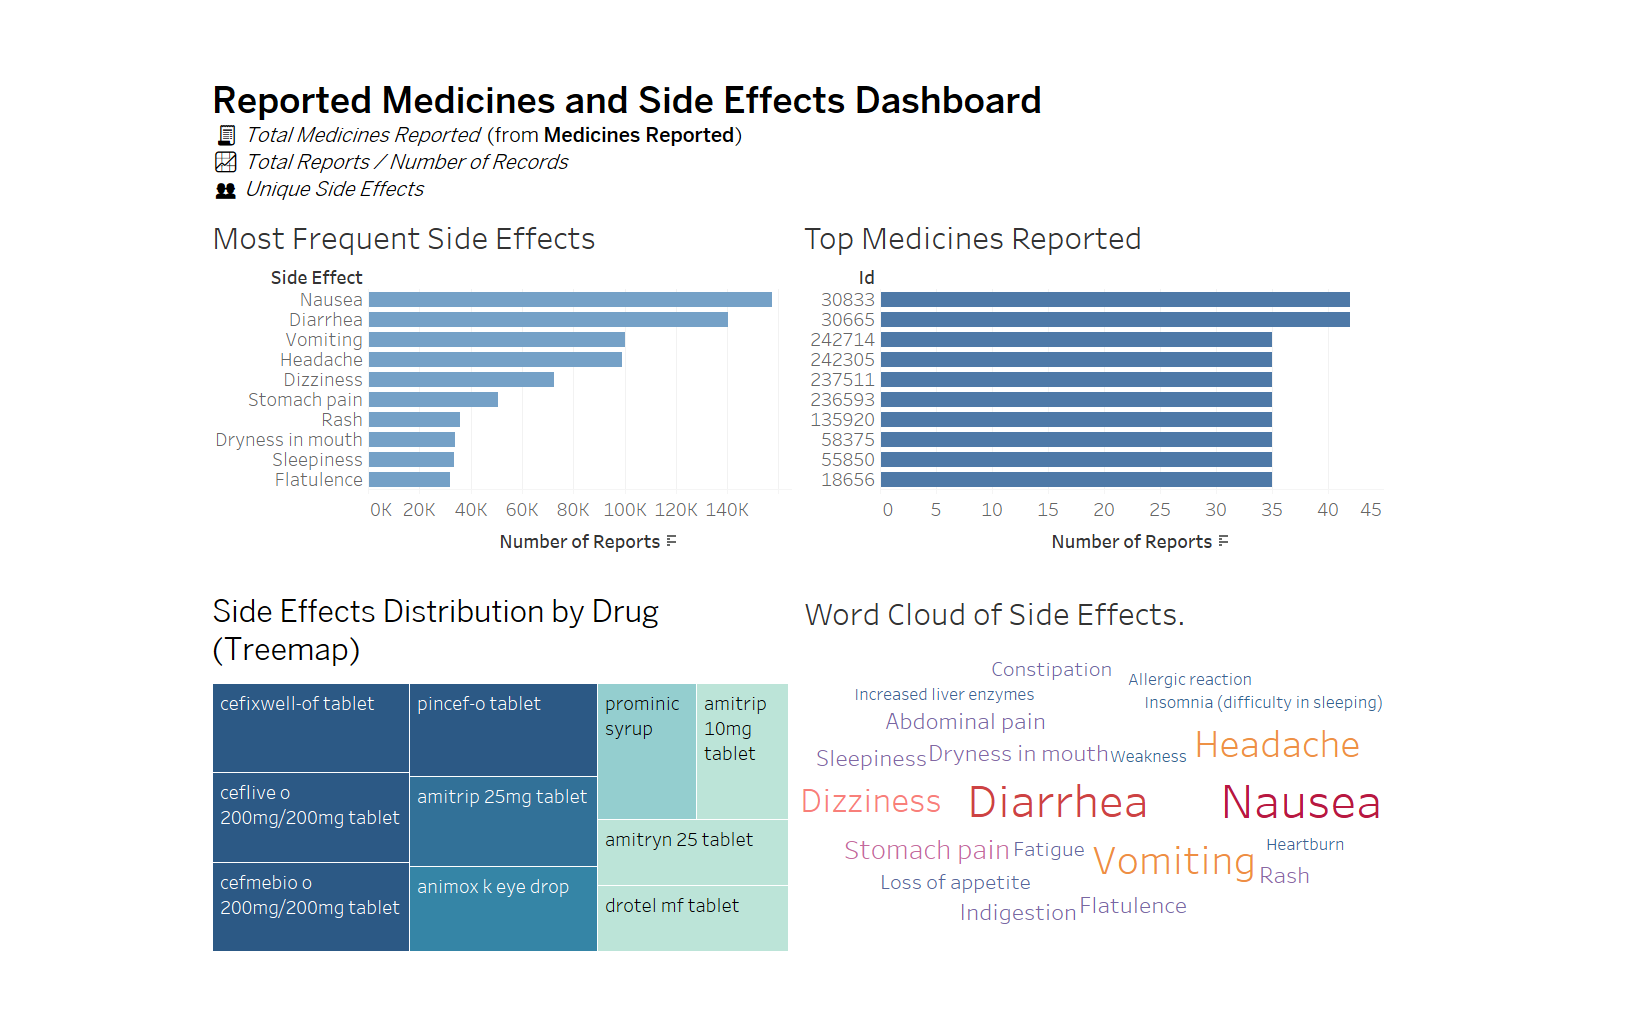

The page's visual inventory and layout, read from the dashboard file:
{"tool":"tableau","page":{"name":"Dashboard 1","canvas":[1200,900],"ordinal":0},"visuals":[{"type":"title","box":[8,8,1184,133]},{"type":"worksheet","title":"Most Frequent Side Effects","mark":"Automatic","rows":["side_effect"],"cols":["id"],"box":[8,141,592,375.5]},{"type":"worksheet","title":"Top Medicines Reported","mark":"Automatic","rows":["id"],"cols":["id"],"box":[600,141,592,375.5]},{"type":"worksheet","title":"Side Effects Distribution by Drug","mark":"Automatic","box":[8,516.5,592,375.5]},{"type":"worksheet","title":"Word Cloud of Side Effects.","mark":"Text","box":[600,516.5,592,375.5]}]}

Visuals, with their boxes on the page's 1200x900 design canvas (x1, y1, x2, y2). These are canvas units, not pixel positions in the 1645x1034 screenshot, which may show the page scaled, cropped or inside an application window:
title: box=[8, 8, 1192, 141]
"Most Frequent Side Effects" worksheet: box=[8, 141, 600, 516]
"Top Medicines Reported" worksheet: box=[600, 141, 1192, 516]
"Side Effects Distribution by Drug" worksheet: box=[8, 516, 600, 892]
"Word Cloud of Side Effects." worksheet (Text marks): box=[600, 516, 1192, 892]
